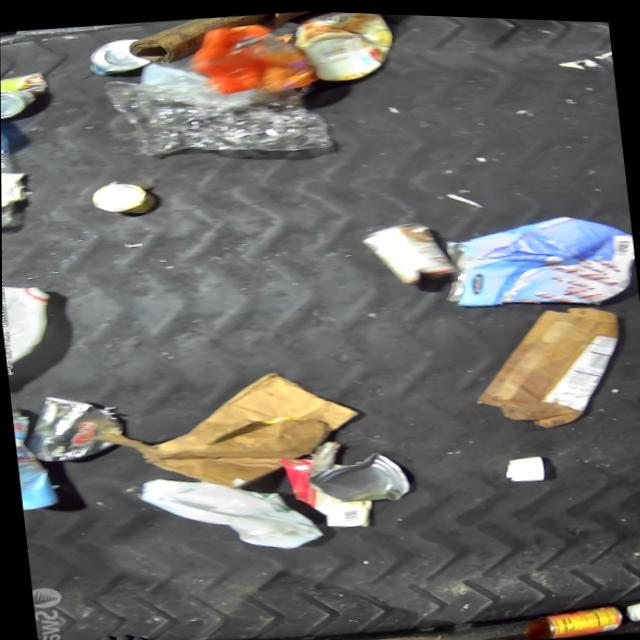can: (16, 385, 128, 468), (356, 211, 460, 290), (304, 444, 414, 506), (9, 400, 59, 511), (83, 34, 150, 78), (87, 178, 157, 219), (0, 69, 52, 123)
milk_jug: (137, 459, 322, 563), (2, 278, 57, 379)
non_white_jug: (436, 200, 639, 316)
plastic_bottle: (1, 124, 20, 234)
